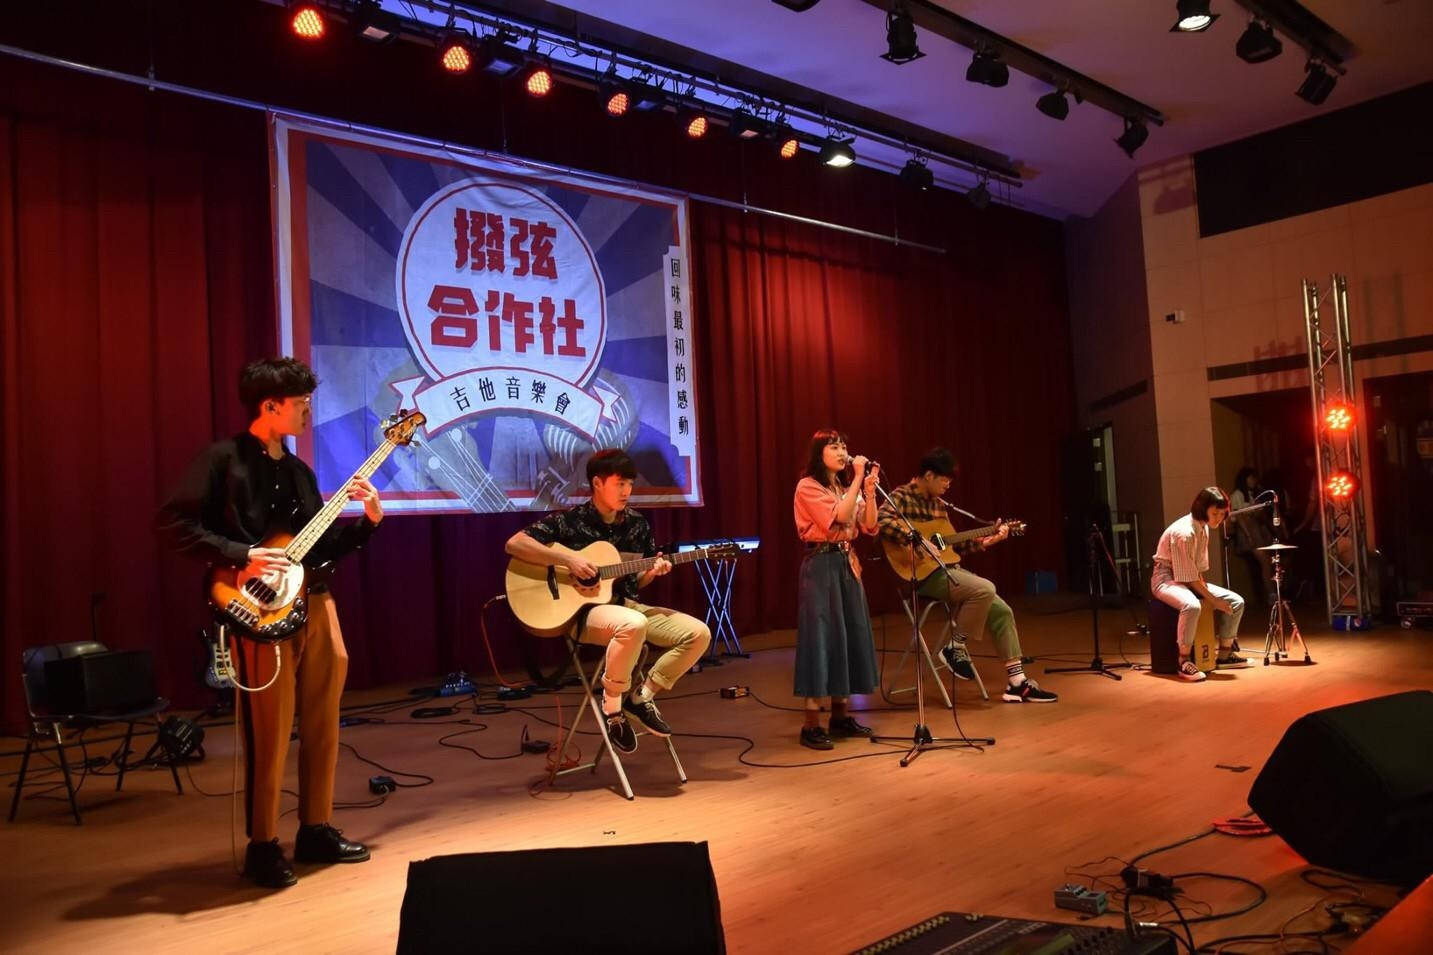people: (208, 358, 376, 870), (896, 456, 1061, 705), (537, 470, 680, 743), (778, 421, 870, 749), (1133, 486, 1249, 688), (1225, 468, 1280, 592)
